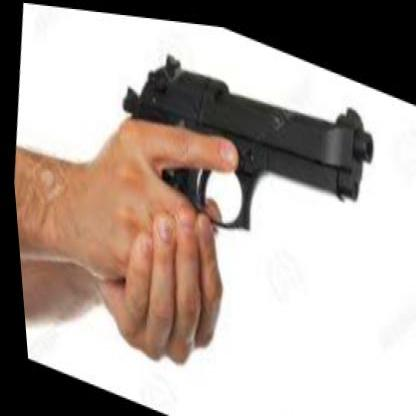pistol: (103, 9, 383, 276)
